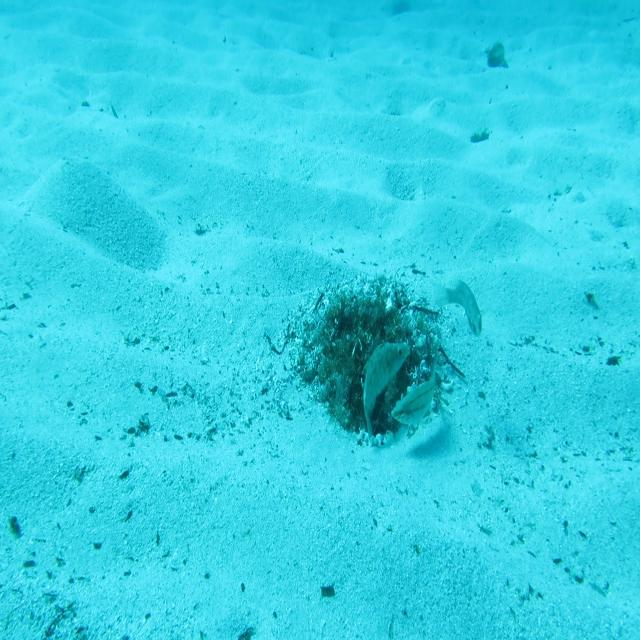DAN_CIRC: (361, 337, 412, 445)
core_nest: (349, 308, 392, 343)
female: (391, 351, 439, 429), (432, 276, 482, 338)
nest: (284, 271, 457, 451)
vegetation: (484, 40, 511, 70), (470, 128, 490, 144), (321, 582, 336, 598)
